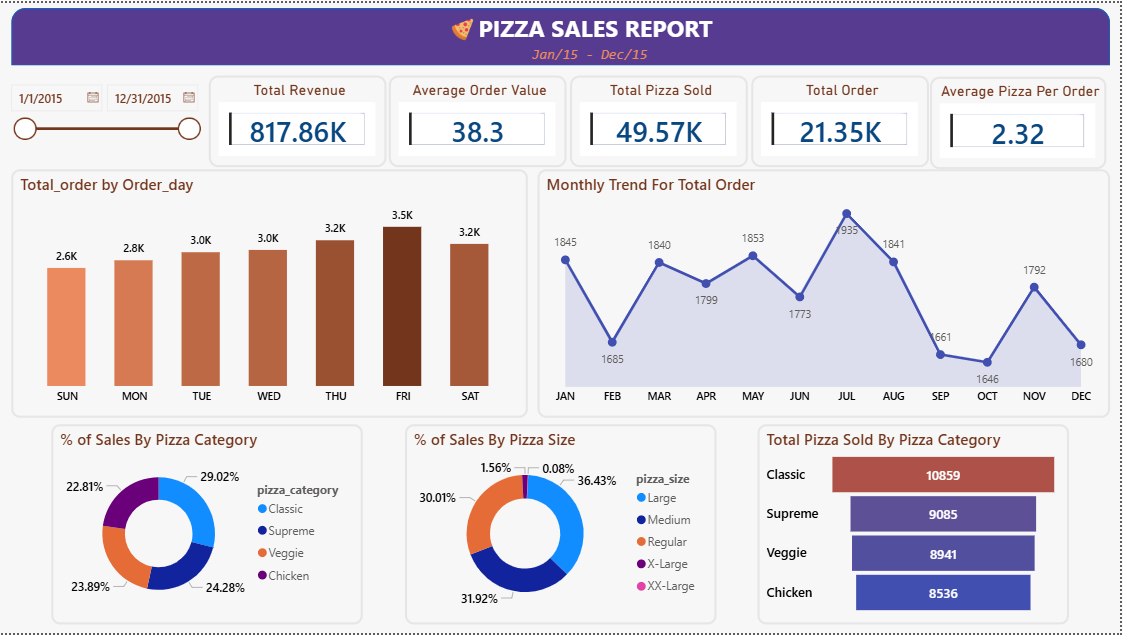

The dashboard page shown, as its layout file describes it:
{"tool":"powerbi","page":{"name":"Page 1","canvas":[1280,720],"ordinal":0},"visuals":[{"type":"cardVisual","title":"Total Pizza Sold","fields":{"Data":["pizza_sales_after_sqll.Total_pizza_sold"]},"box":[651.4,83.4,203.3,105],"z":0},{"type":"cardVisual","title":"Total Revenue","fields":{"Data":["pizza_sales_after_sqll.Total_Revenue"]},"box":[238.1,83.4,203.3,105],"z":1000},{"type":"cardVisual","title":"Average Order Value","fields":{"Data":["pizza_sales_after_sqll.Avg_order_Value"]},"box":[444.8,83.4,203.3,105],"z":2000},{"type":"cardVisual","title":"Total Order","fields":{"Data":["pizza_sales_after_sqll.Total_order"]},"box":[858.1,83.4,203.3,105],"z":3000},{"type":"cardVisual","title":"Average Pizza Per Order","fields":{"Data":["pizza_sales_after_sqll.Avg_pizza_per_order"]},"box":[1065.7,82.9,202.9,105],"z":4000},{"type":"shape","box":[12.9,5.7,1255.7,65.7],"z":5000},{"type":"textbox","box":[541,5.7,278.6,45.7],"z":6000},{"type":"textbox","box":[603.3,45,158.3,40],"z":7000},{"type":"image","box":[515.3,14.3,25.7,31.4],"z":8000},{"type":"columnChart","fields":{"Y":["pizza_sales_after_sqll.Total_order"],"Category":["pizza_sales_after_sqll.Order_day"]},"box":[12.9,190,590,284.3],"z":9000},{"type":"areaChart","title":"Monthly Trend For Total Order  ","fields":{"Y":["pizza_sales_after_sqll.Total_order"],"Category":["pizza_sales_after_sqll.Order_Month"]},"box":[614.3,190,654.3,284.3],"z":10000},{"type":"donutChart","title":"% of Sales By Pizza Category","fields":{"Category":["pizza_sales_after_sqll.pizza_category"],"Y":["pizza_sales_after_sqll.Total_order"]},"box":[58.6,481.4,355.7,228.6],"z":11000},{"type":"funnel","title":"Total Pizza Sold By Pizza Category","fields":{"Category":["pizza_sales_after_sqll.pizza_category"],"Y":["pizza_sales_after_sqll.Total_order"]},"box":[865.7,481.4,355.7,228.6],"z":12000},{"type":"donutChart","title":"% of Sales By Pizza Size","fields":{"Category":["pizza_sales_after_sqll.pizza_size"],"Y":["pizza_sales_after_sqll.Total_order"]},"box":[462.9,481.4,355.7,228.6],"z":13000},{"type":"slicer","fields":{"Values":["pizza_sales_after_sqll.order_date"]},"box":[0,82.9,237.1,104.3],"z":14000}]}

Visuals, with their boxes in screenshot pixels (x1, y1, x2, y2), scaled from the page's 1280x720 canvas onto the 1123x635 screenshot:
"Total Pizza Sold" cardVisual: (572, 74, 750, 166)
"Total Revenue" cardVisual: (209, 74, 387, 166)
"Average Order Value" cardVisual: (390, 74, 569, 166)
"Total Order" cardVisual: (753, 74, 931, 166)
"Average Pizza Per Order" cardVisual: (935, 73, 1113, 166)
shape: (11, 5, 1113, 63)
textbox: (475, 5, 719, 45)
textbox: (529, 40, 668, 75)
image: (452, 13, 475, 40)
columnChart - pizza_sales_after_sqll.Total_order x pizza_sales_after_sqll.Order_day: (11, 168, 529, 418)
"Monthly Trend For Total Order  " areaChart: (539, 168, 1113, 418)
"% of Sales By Pizza Category" donutChart: (51, 425, 363, 626)
"Total Pizza Sold By Pizza Category" funnel: (760, 425, 1072, 626)
"% of Sales By Pizza Size" donutChart: (406, 425, 718, 626)
slicer - pizza_sales_after_sqll.order_date: (0, 73, 208, 165)
